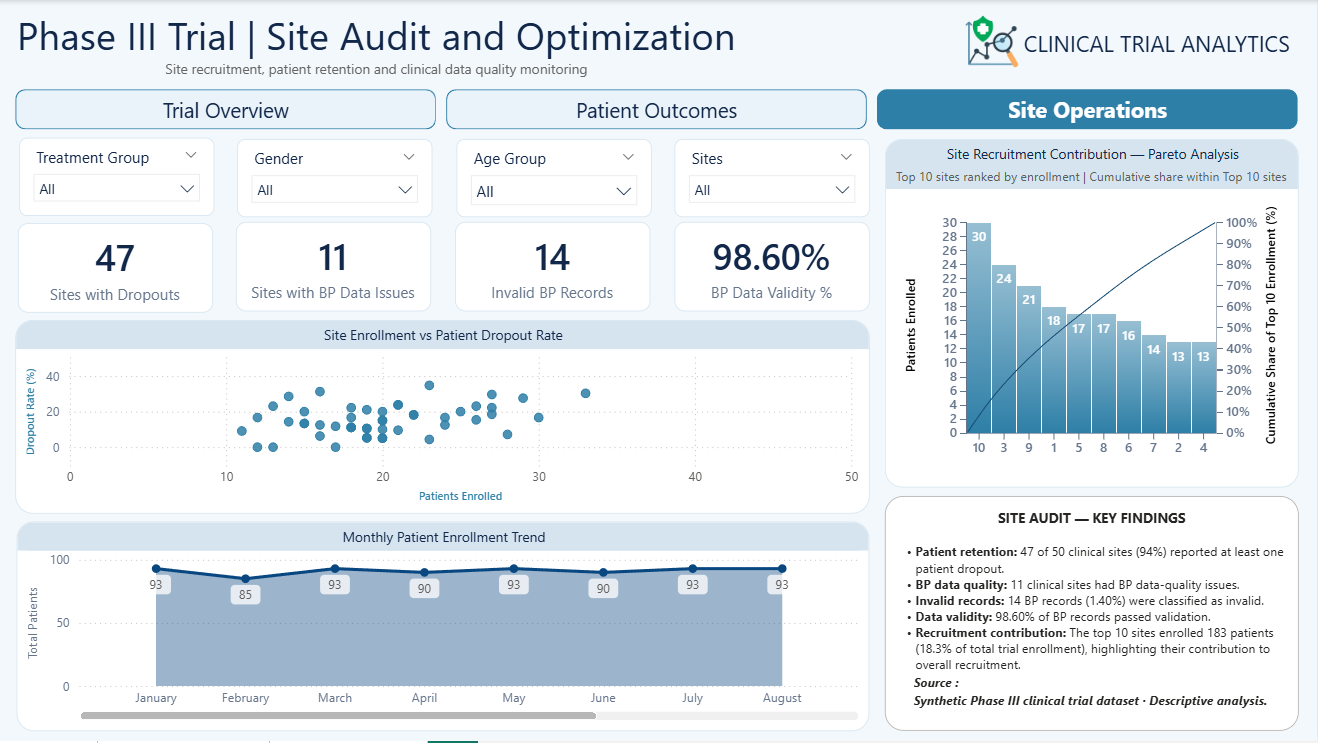

What the dashboard file says about the page in this screenshot:
{"tool":"powerbi","page":{"name":"Site Operations","canvas":[1280,720],"ordinal":2},"visuals":[{"type":"group","id":"g1","title":"Group 3","box":[7.5,3.5,837.8,300.9],"z":0},{"type":"group","id":"g2","title":"Group 1","box":[7.5,3.5,716.9,86],"z":0,"group":"g1"},{"type":"slicer","fields":{"Values":["vw_patient_analysis.treatment_group"]},"box":[19,133.4,189.5,76.1],"z":0,"group":"g3"},{"type":"textbox","box":[990.5,19.6,269.1,44.7],"z":1000,"group":"g4"},{"type":"slicer","fields":{"Values":["vw_patient_analysis.gender"]},"box":[230.9,134.6,189.5,76],"z":1000,"group":"g3"},{"type":"card","fields":{"Values":["Table.Sites with Dropouts"]},"box":[16.8,217.2,189.5,87.3],"z":1000,"group":"g1"},{"type":"stackedAreaChart","title":"Monthly Patient Enrollment Trend","fields":{"Category":["vw_monthly_enrollment.enrollment_month.Variation.Date Hierarchy.Month"],"Y":["Sum(vw_monthly_enrollment.total_enrollments)"]},"box":[16,506.7,829.3,204],"z":1000},{"type":"textbox","box":[7.5,3.5,716.9,86],"z":2000,"group":"g2"},{"type":"slicer","fields":{"Values":["vw_patient_analysis.age_group"]},"box":[444.1,134.6,189.5,76],"z":2000,"group":"g3"},{"type":"paretoplus2EFEC13210A14D3E82580687601DE984","title":"Site Recruitment Contribution — Pareto Analysis               ","fields":{"values":["Table.Total Patients"],"categories":["vw_site_performance.site_id"]},"box":[860,134.7,402.7,338.7],"z":2000},{"type":"pageNavigator","box":[15,87.3,1248,39.9],"z":3000},{"type":"slicer","fields":{"Values":["vw_patient_analysis.site_id"]},"box":[656.1,134.6,189.5,76],"z":3000,"group":"g3"},{"type":"group","id":"g3","title":"Group 2","box":[19,133.4,826.6,77.3],"z":4000},{"type":"scatterChart","title":"Site Enrollment vs Patient Dropout Rate","fields":{"X":["Sum(vw_site_performance.total_patients)"],"Y":["Avg(vw_site_performance.dropout_rate_percentage)"],"Category":["vw_site_performance.site_id"]},"box":[14.7,310.7,830.7,188],"z":5000},{"type":"textbox","box":[860,482.7,402.7,228],"z":6000},{"type":"card","fields":{"Values":["Table.BP Data Validity %"]},"box":[655.8,215.4,189.5,87.3],"z":9000,"group":"g1"},{"type":"card","fields":{"Values":["Table.Invalid BP Records"]},"box":[442,215.9,189.5,87.3],"z":10000,"group":"g1"},{"type":"card","fields":{"Values":["Table.Sites with BP Data Issues"]},"box":[228.8,215.9,189.5,87.3],"z":11000,"group":"g1"},{"type":"image","box":[910.1,15,108.5,51.1],"z":13000,"group":"g4"},{"type":"group","id":"g4","title":"Group 2","box":[910.1,15,349.5,51.1],"z":13001}]}

Visuals, with their boxes in screenshot pixels (x1, y1, x2, y2), scaled from the page's 1280x720 canvas onto the 1318x743 screenshot:
"Group 3" group: x1=8, y1=4, x2=870, y2=314
"Group 1" group: x1=8, y1=4, x2=746, y2=92
slicer - vw_patient_analysis.treatment_group: x1=20, y1=138, x2=215, y2=216
textbox: x1=1020, y1=20, x2=1297, y2=66
slicer - vw_patient_analysis.gender: x1=238, y1=139, x2=433, y2=217
card - Table.Sites with Dropouts: x1=17, y1=224, x2=212, y2=314
"Monthly Patient Enrollment Trend" stackedAreaChart: x1=16, y1=523, x2=870, y2=733
textbox: x1=8, y1=4, x2=746, y2=92
slicer - vw_patient_analysis.age_group: x1=457, y1=139, x2=652, y2=217
"Site Recruitment Contribution — Pareto Analysis               " paretoplus2EFEC13210A14D3E82580687601DE984: x1=886, y1=139, x2=1300, y2=489
pageNavigator: x1=15, y1=90, x2=1300, y2=131
slicer - vw_patient_analysis.site_id: x1=676, y1=139, x2=871, y2=217
"Group 2" group: x1=20, y1=138, x2=871, y2=217
"Site Enrollment vs Patient Dropout Rate" scatterChart: x1=15, y1=321, x2=870, y2=515
textbox: x1=886, y1=498, x2=1300, y2=733
card - Table.BP Data Validity %: x1=675, y1=222, x2=870, y2=312
card - Table.Invalid BP Records: x1=455, y1=223, x2=650, y2=313
card - Table.Sites with BP Data Issues: x1=236, y1=223, x2=431, y2=313
image: x1=937, y1=15, x2=1049, y2=68
"Group 2" group: x1=937, y1=15, x2=1297, y2=68
